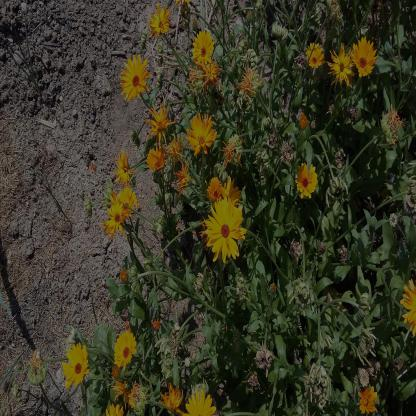marigold: (206, 196, 246, 262), (61, 342, 90, 389), (188, 113, 218, 156), (121, 55, 149, 101), (329, 43, 354, 89), (354, 34, 378, 78), (295, 158, 318, 202), (113, 330, 138, 368), (191, 30, 216, 68), (106, 192, 125, 238), (219, 174, 242, 212), (147, 104, 170, 140), (147, 2, 170, 38), (356, 382, 378, 414), (114, 148, 132, 186), (117, 188, 138, 218), (306, 40, 326, 70), (206, 176, 223, 206), (147, 146, 166, 171)
